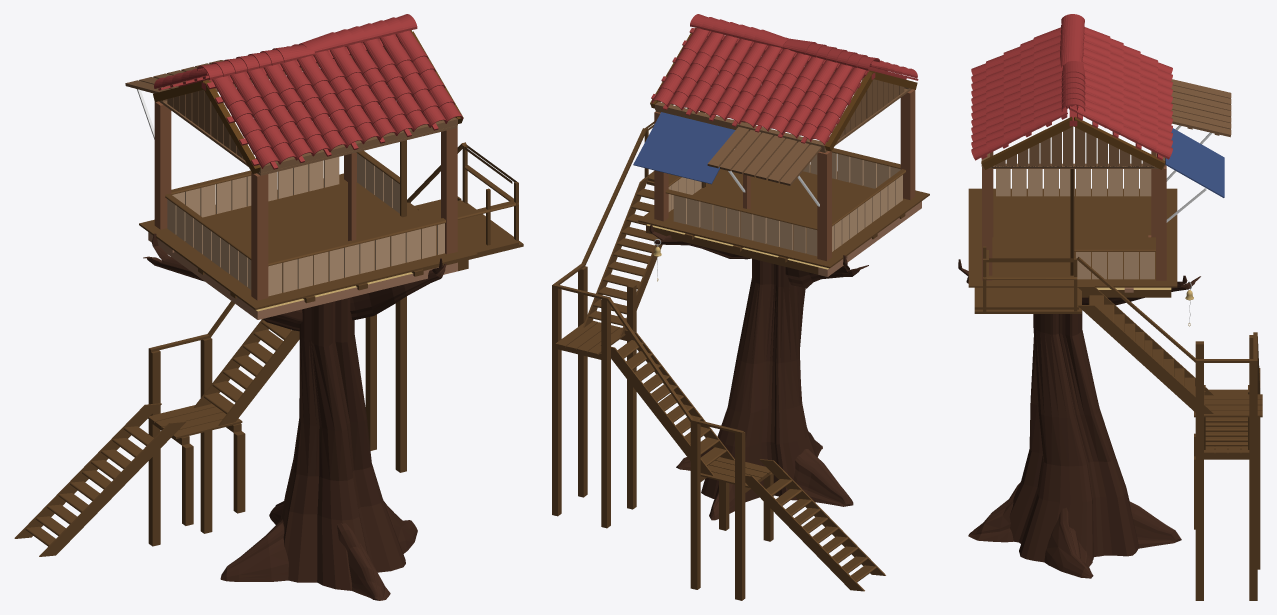
The model's file is HouseOnTree.fbx.
3 views of the same model, side by side, from view 1: azimuth 30°, elevation 25°; view 2: azimuth 150°, elevation 25°; view 3: azimuth 270°, elevation 25° (orthographic). The views are drawn at different scales.
Visible parts, largest first — view 1: Compone320, polySurface110, Compone103, polySurface23, Componen89, polySurface71, Compone269, Mesh08, Compone262, Group12, Compone261; view 2: polySurface110, Compone103, Compone320, polySurface23, Componen89, Compone295, polySurface71, Componen51, Mesh08, Compone264, Compone267, Compone269; view 3: polySurface110, Compone320, Compone103, polySurface23, Componen89, Mesh08, polySurface71, Componen51, Compone295, Compone266, Compone265, Group12.
Boxes of the visible parts, x1=… form: Compone320: x1=143, y1=233, x2=446, y2=600; polySurface110: x1=14, y1=173, x2=523, y2=556; Compone103: x1=154, y1=14, x2=462, y2=169; polySurface23: x1=148, y1=142, x2=518, y2=546; Componen89: x1=167, y1=153, x2=444, y2=296; polySurface71: x1=154, y1=101, x2=457, y2=300; Compone269: x1=148, y1=232, x2=457, y2=319; Mesh08: x1=167, y1=47, x2=386, y2=159; Compone262: x1=259, y1=117, x2=457, y2=173; Group12: x1=159, y1=56, x2=457, y2=175; Compone261: x1=204, y1=81, x2=260, y2=173; polySurface110: x1=555, y1=165, x2=929, y2=591; Compone103: x1=651, y1=14, x2=918, y2=145; Compone320: x1=649, y1=224, x2=868, y2=520; polySurface23: x1=552, y1=105, x2=905, y2=600; Componen89: x1=668, y1=152, x2=902, y2=256; Compone295: x1=633, y1=112, x2=735, y2=184; polySurface71: x1=654, y1=89, x2=915, y2=261; Componen51: x1=707, y1=126, x2=821, y2=185; Mesh08: x1=719, y1=44, x2=904, y2=139; Compone264: x1=655, y1=102, x2=825, y2=150; Compone267: x1=824, y1=71, x2=873, y2=151; Compone269: x1=818, y1=201, x2=921, y2=276; polySurface110: x1=968, y1=188, x2=1262, y2=459; Compone320: x1=958, y1=259, x2=1200, y2=578; Compone103: x1=971, y1=14, x2=1172, y2=160; polySurface23: x1=983, y1=246, x2=1260, y2=600; Componen89: x1=996, y1=169, x2=1154, y2=279; Mesh08: x1=995, y1=127, x2=1152, y2=166; polySurface71: x1=982, y1=151, x2=1166, y2=280; Componen51: x1=1171, y1=79, x2=1231, y2=137; Compone295: x1=1165, y1=128, x2=1224, y2=197; Compone266: x1=981, y1=116, x2=1072, y2=169; Compone265: x1=1074, y1=116, x2=1165, y2=169; Group12: x1=982, y1=153, x2=1163, y2=168.
Bounding box in the file's own units: 432 × 649 × 352.
